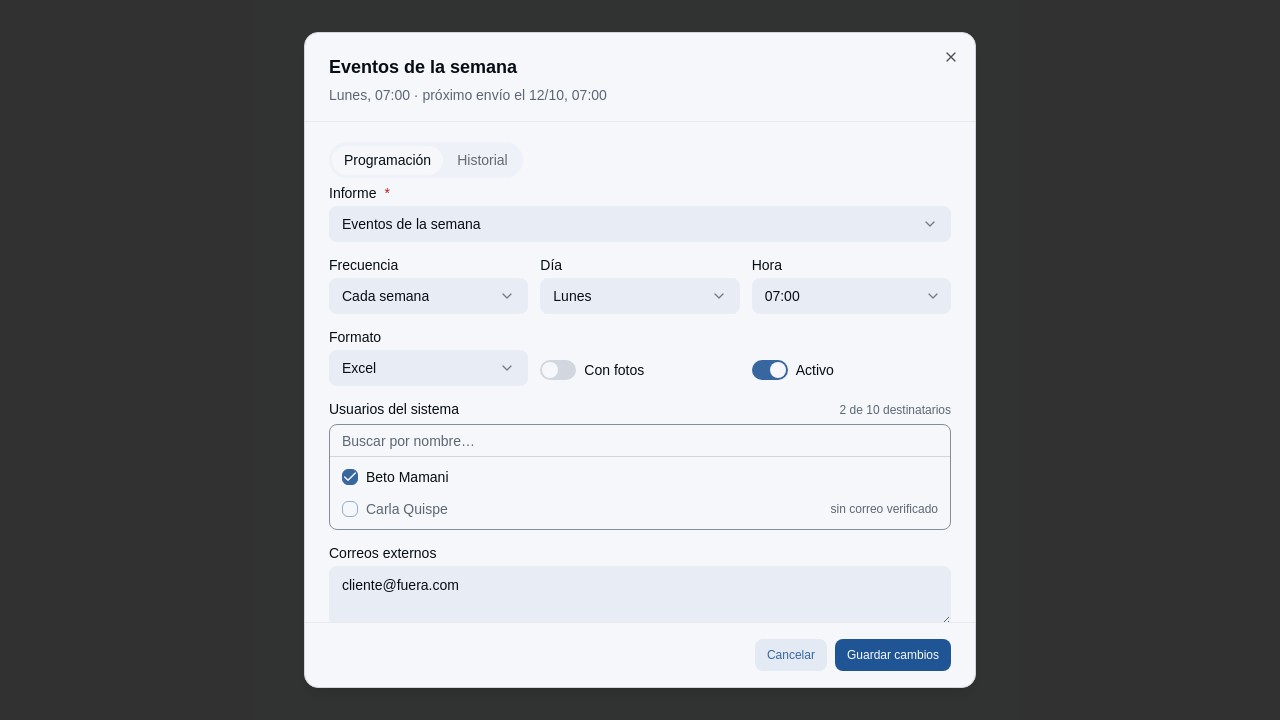
Test: under React's strict mode, which is how the application runs in development › still fills its lists and its history
Check: the text "Beto Mamani" is shown, box top-left (366, 467), bottom-right (448, 487)
Check: the checkbox named "Beto Mamani" next to "Beto" is checked, box top-left (342, 469), bottom-right (358, 485)
Click the tab "Historial" at [482, 160], box top-left (444, 144), bottom-right (521, 176)
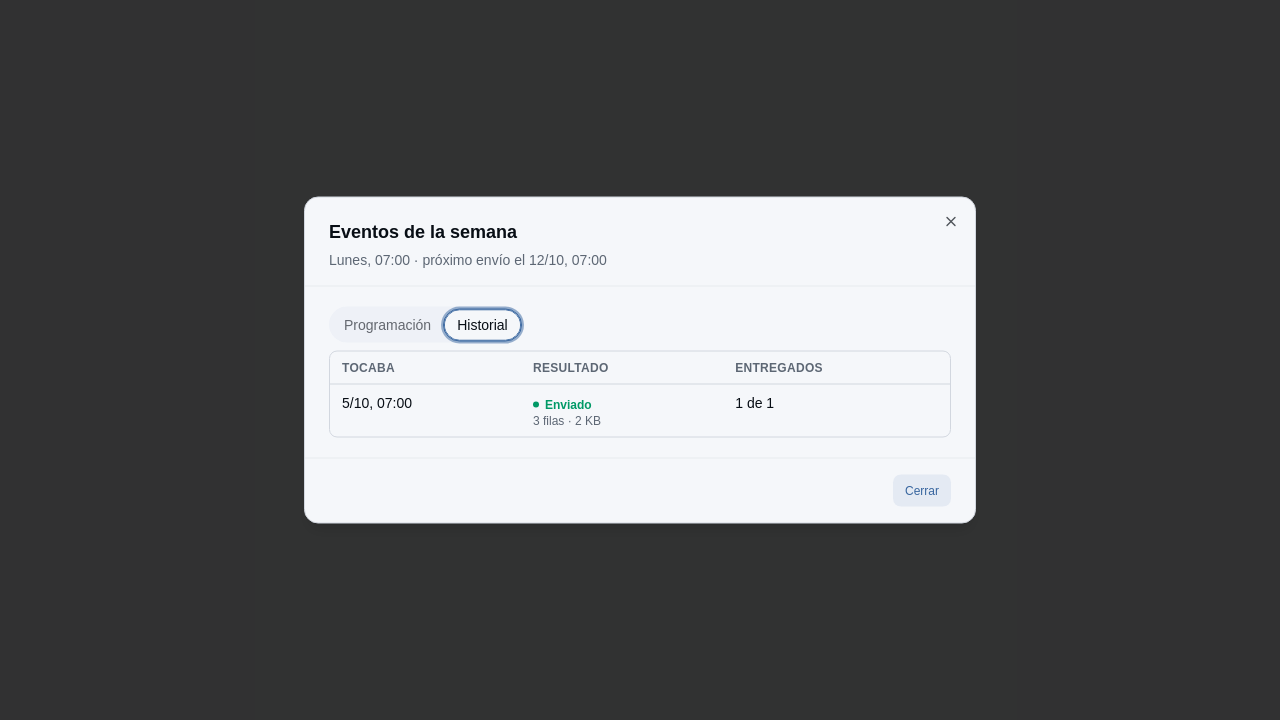
Check: the text "Enviado" is shown, box top-left (533, 396), bottom-right (592, 412)
